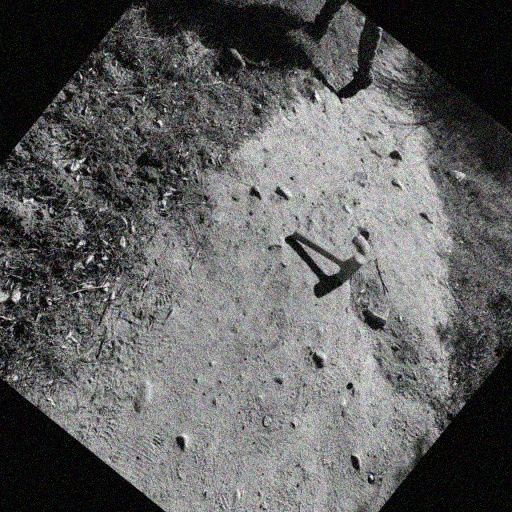mallet: (288, 212, 368, 288)
